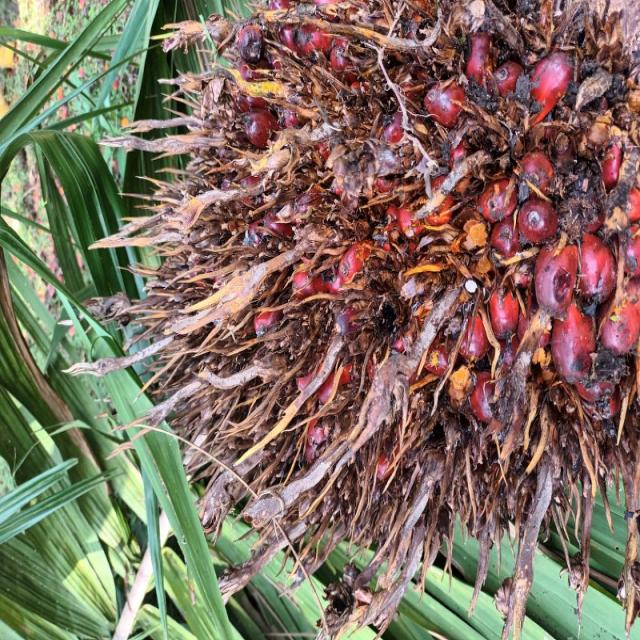fraksi 1: (45, 141, 480, 640)
